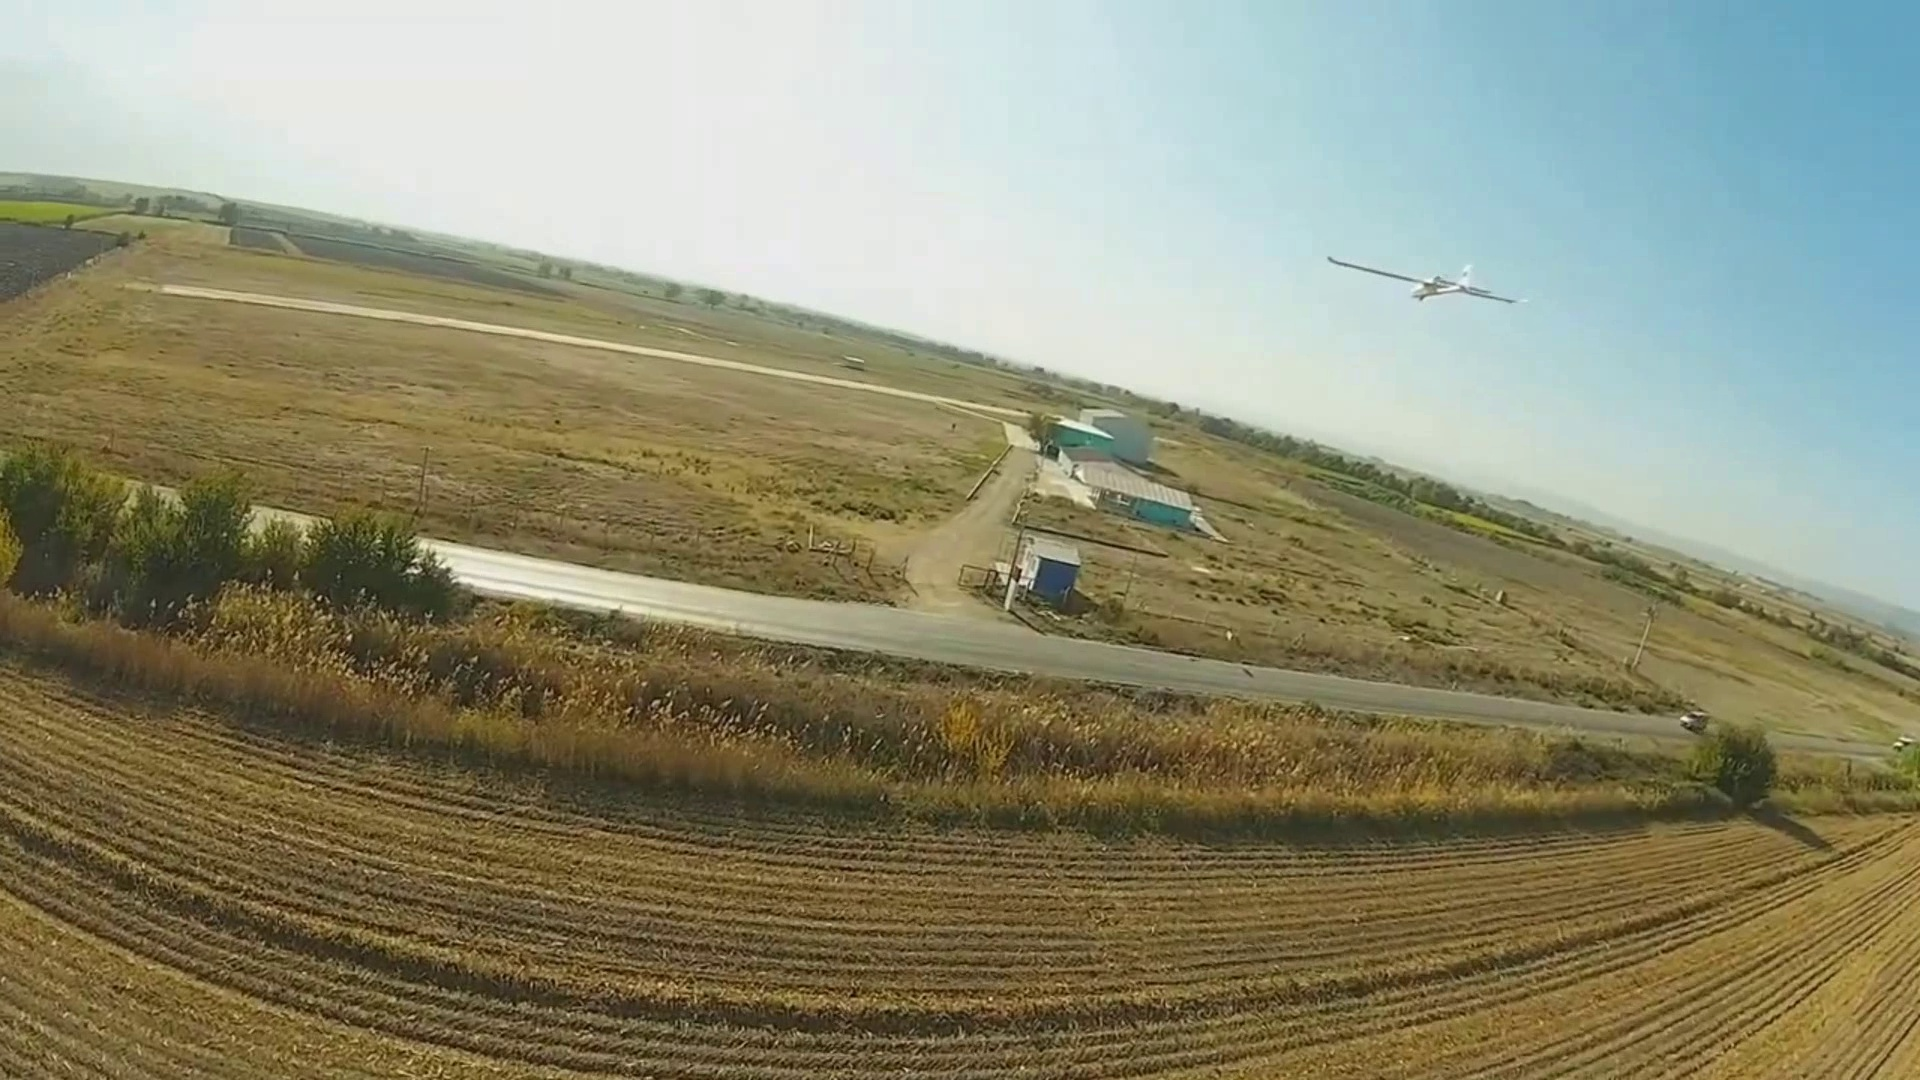airplane: (1325, 251, 1523, 306), (1410, 264, 1523, 305)
